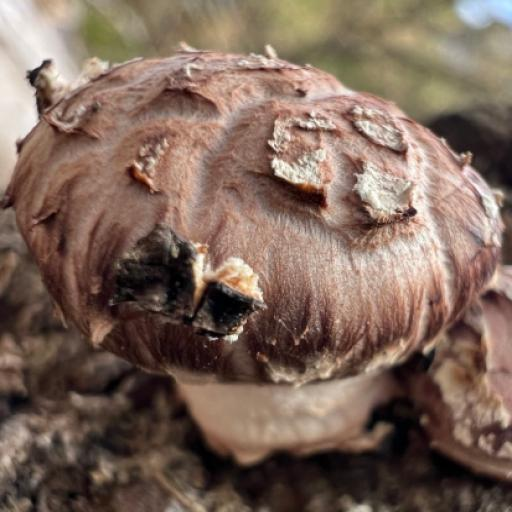Shiitake Mushroom: (0, 0, 512, 502)
